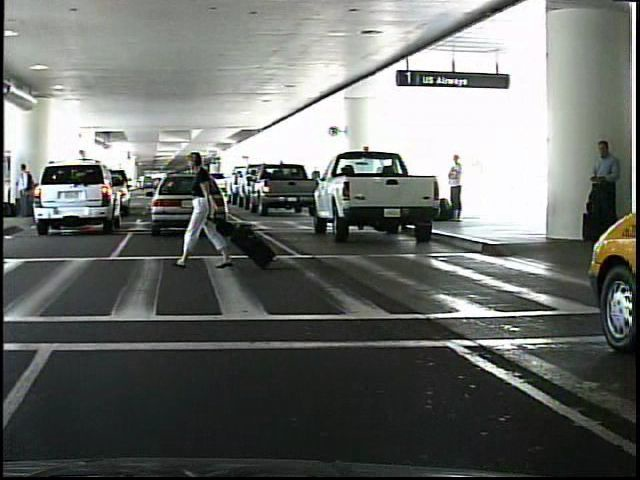person: (188, 152, 235, 272), (580, 135, 619, 249), (443, 152, 470, 223), (19, 161, 38, 222)
